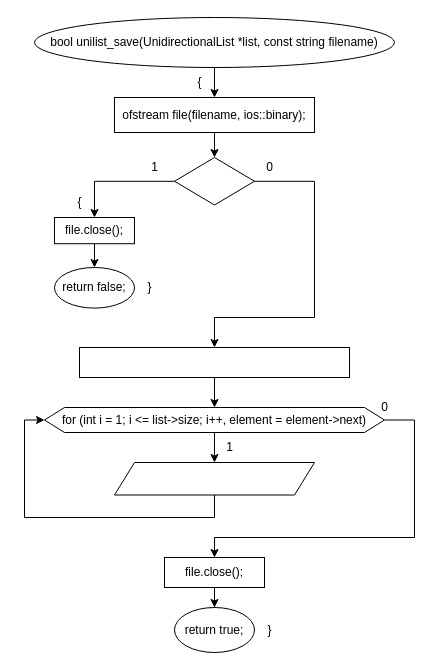
Some shapes in this 440 by 670 pixel diagram are drawn without their labels. Each missing label, with the centre of its shape:
file << element->key << '\0';: point (214, 478)
if (!file): point (214, 180)
UnidirectionalElement *element = list->first;: point (214, 362)
